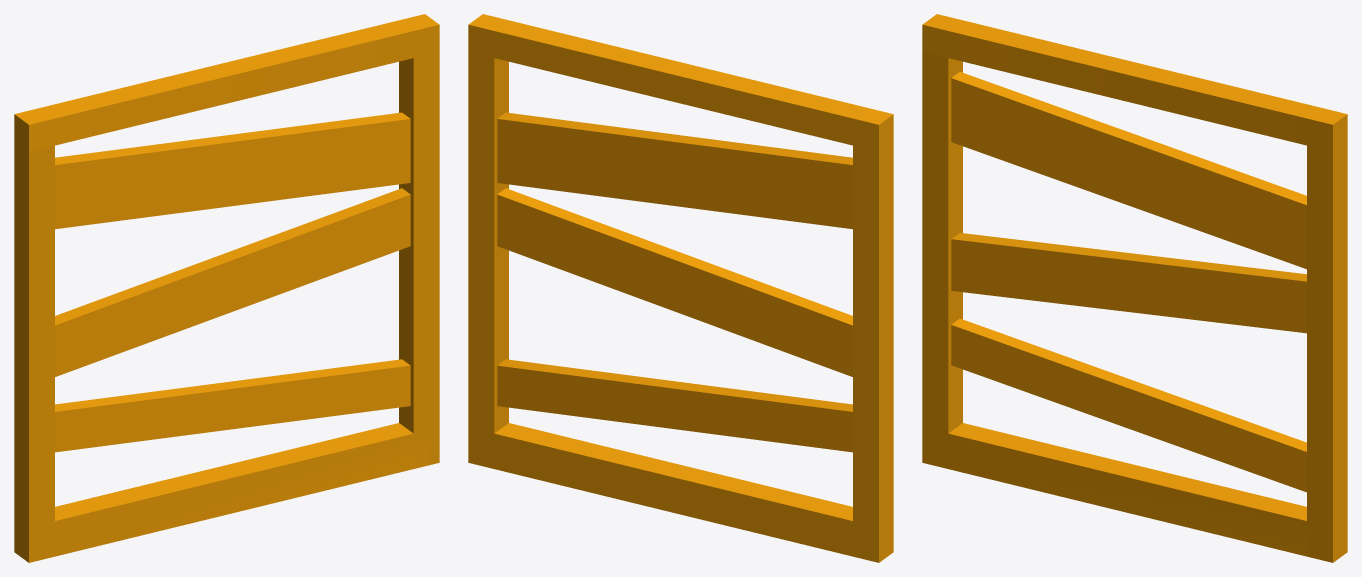
The model's file is Barrier.fbx.
3 renders of one model, left to right at view 1: azimuth 30°, elevation 25°; view 2: azimuth 150°, elevation 25°; view 3: azimuth 330°, elevation 25°, orthographic.
Visible parts, largest first — view 1: Barrier_4, Barrier_2, Barrier_1, Barrier_3; view 2: Barrier_4, Barrier_2, Barrier_1, Barrier_3; view 3: Barrier_4, Barrier_2, Barrier_1, Barrier_3.
Part boxes in pixels (x1=…): Barrier_4: x1=14, y1=14, x2=439, y2=562; Barrier_2: x1=55, y1=112, x2=410, y2=229; Barrier_1: x1=55, y1=188, x2=410, y2=376; Barrier_3: x1=55, y1=359, x2=410, y2=452; Barrier_4: x1=468, y1=14, x2=893, y2=562; Barrier_2: x1=497, y1=112, x2=852, y2=229; Barrier_1: x1=497, y1=188, x2=852, y2=376; Barrier_3: x1=497, y1=359, x2=852, y2=452; Barrier_4: x1=922, y1=14, x2=1347, y2=562; Barrier_2: x1=951, y1=72, x2=1306, y2=269; Barrier_1: x1=951, y1=233, x2=1306, y2=333; Barrier_3: x1=951, y1=318, x2=1306, y2=492.
Size of the model in its own units: 3.2 by 3.26 by 0.1971.
